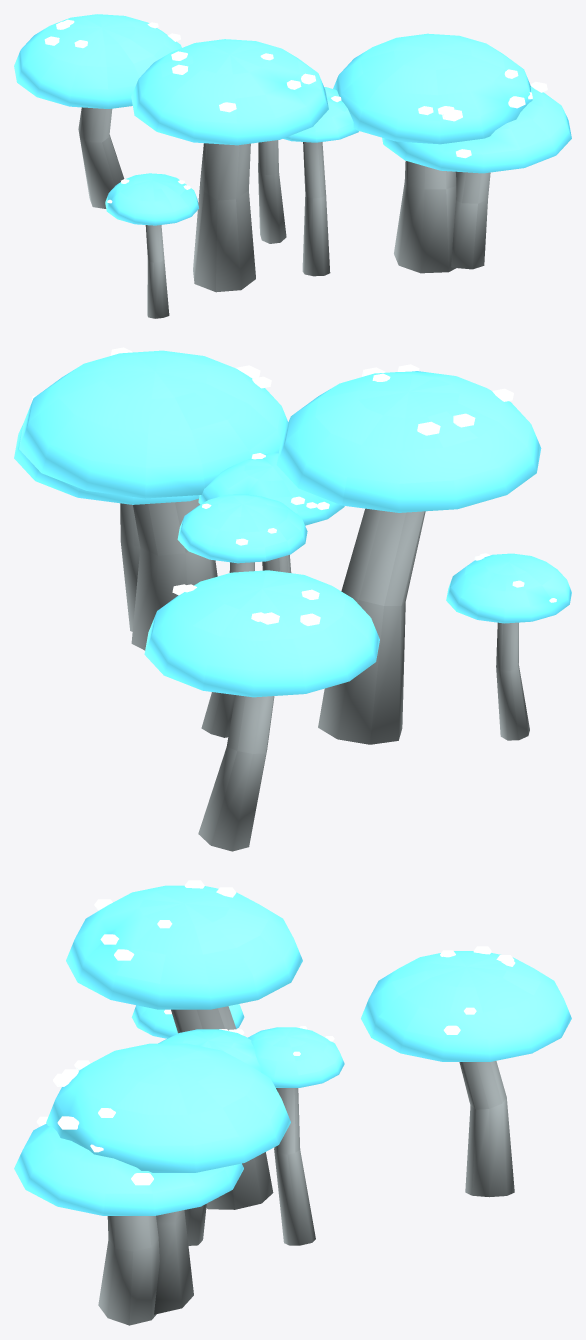
File: obj_deco_hongos.glb
3 views of the same model, one above another, from view 1: azimuth 30°, elevation 25°; view 2: azimuth 150°, elevation 25°; view 3: azimuth 270°, elevation 25° (orthographic). The views are drawn at different scales.
Parts seen in each view (by area): view 1: propforge-libre-deco_hongos; view 2: propforge-libre-deco_hongos; view 3: propforge-libre-deco_hongos.
Part boxes in pixels (bbox=[...]): propforge-libre-deco_hongos: bbox=[14, 14, 571, 318]; propforge-libre-deco_hongos: bbox=[14, 347, 571, 851]; propforge-libre-deco_hongos: bbox=[14, 880, 571, 1325].
Size of the model in its own units: 0.7117 by 0.3944 by 0.6886.
